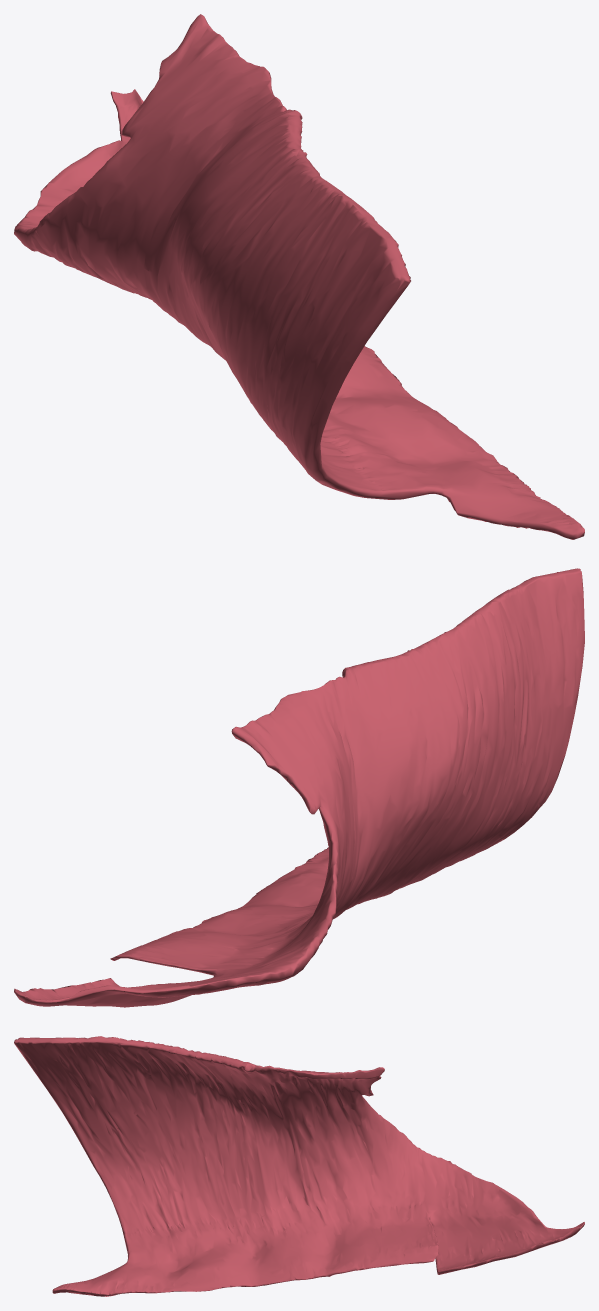
The picture shows the model from 3 angles, top to bottom: view 1: azimuth 30°, elevation 25°; view 2: azimuth 150°, elevation 25°; view 3: azimuth 270°, elevation 25°; orthographic projection. The views are drawn at different scales.
Parts seen in each view (by area): view 1: 右侧腹横肌; view 2: 右侧腹横肌; view 3: 右侧腹横肌.
Boxes of the visible parts, bbox=[...] form: 右侧腹横肌: bbox=[14, 14, 584, 539]; 右侧腹横肌: bbox=[14, 568, 584, 1007]; 右侧腹横肌: bbox=[14, 1036, 584, 1296].
Size of the model in its own units: 0.1907 by 0.2467 by 0.6205.
